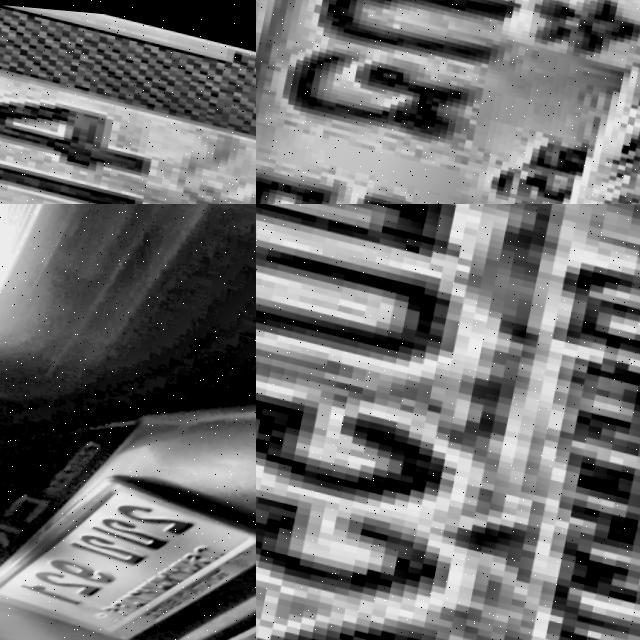license-plate: (256, 204, 640, 640), (256, 0, 640, 204), (0, 0, 256, 204), (0, 442, 256, 640)
